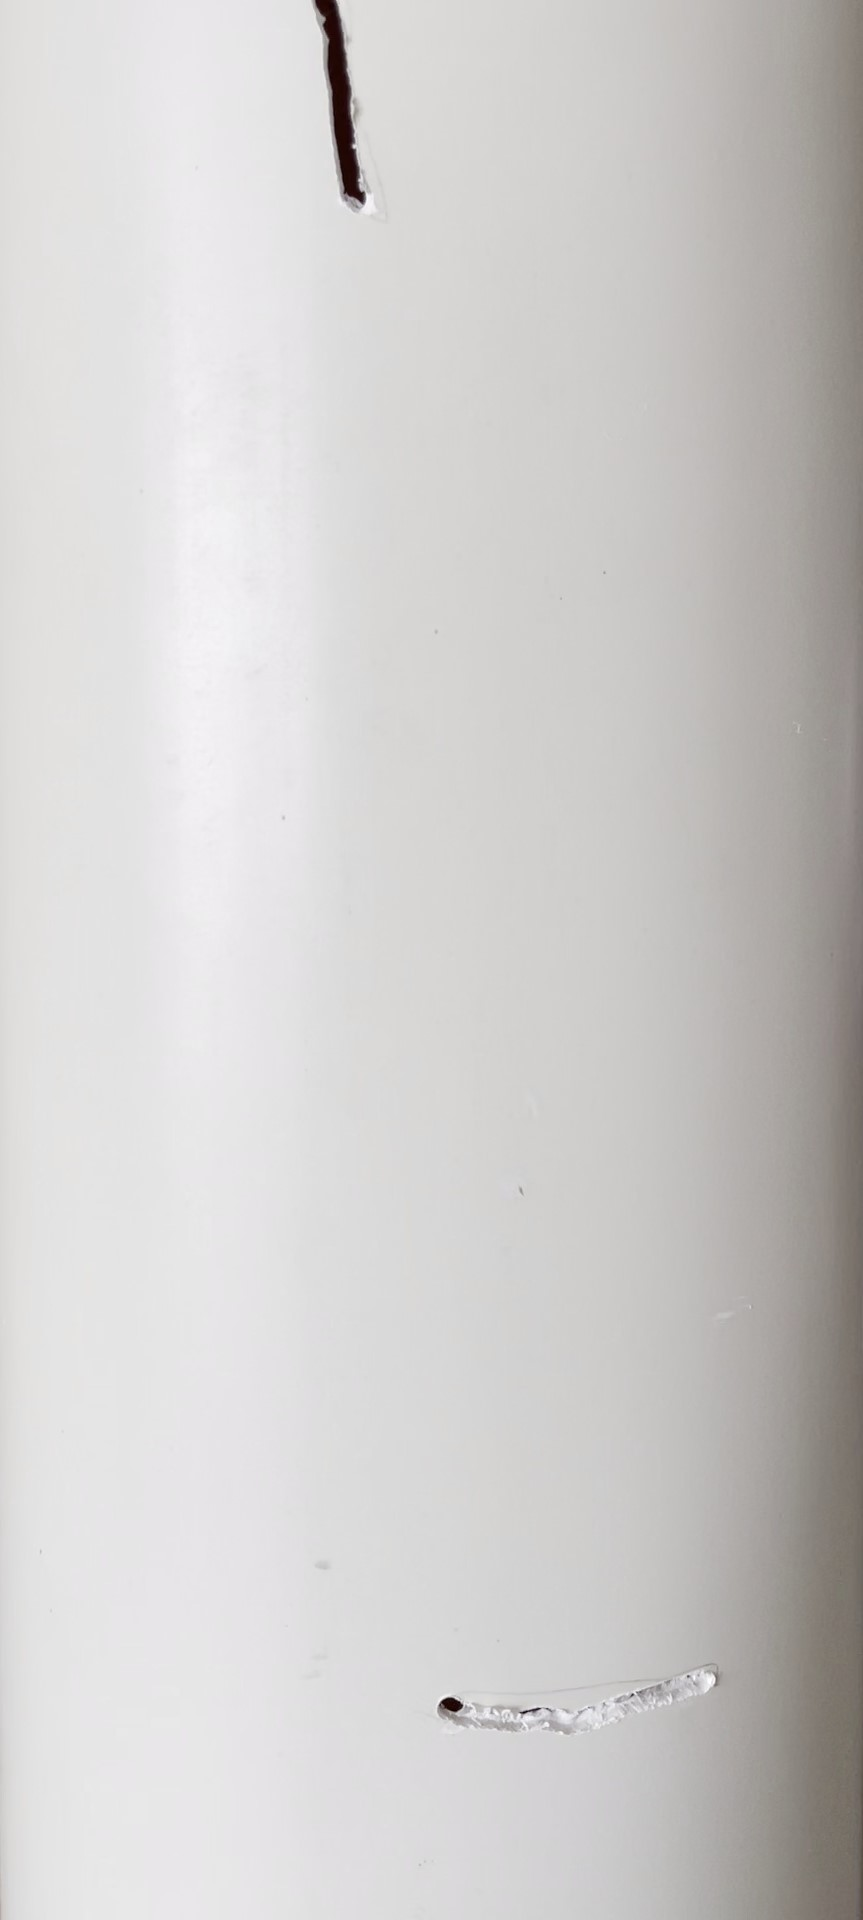fengxi: (438, 1663, 730, 1742), (297, 6, 394, 227)
